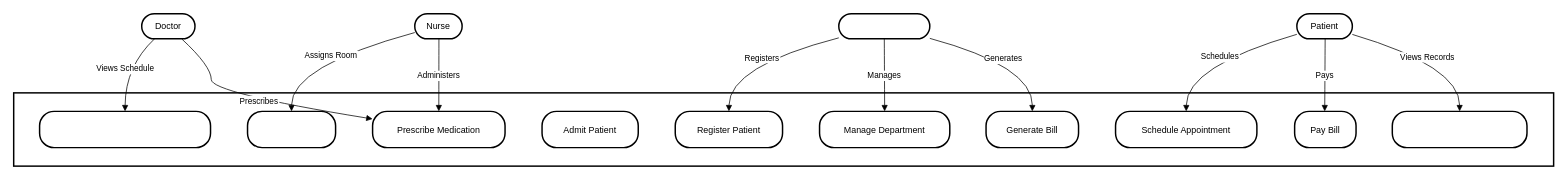
This 1567x179 diagram has some shape labels left out. The shapes that lost their labels are listed below. From the top down, each one's box as (x1, y1, x2, y2) in pixels, then its label:
(838, 13, 930, 39): Administrator
(38, 110, 211, 148): View Appointment Schedule
(246, 110, 336, 148): Assign Room
(13, 92, 1554, 166): Hospital Management System Use Cases
(1391, 110, 1527, 148): View Patient Records
